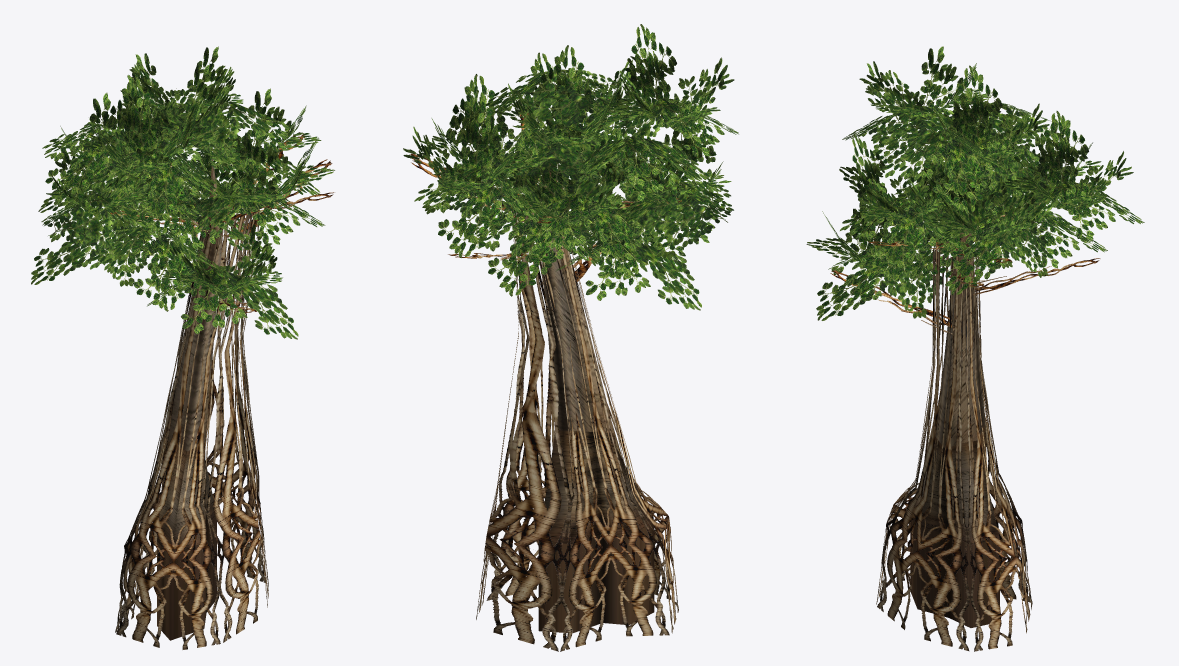
The model's file is flora_tree_strangler_v2.glb.
3 views of the same model, side by side, from view 1: azimuth 30°, elevation 25°; view 2: azimuth 150°, elevation 25°; view 3: azimuth 270°, elevation 25° (orthographic). The views are drawn at different scales.
Parts seen in each view (by area): view 1: flora_tree_strangler_v2_part1, flora_tree_strangler_v2_part0; view 2: flora_tree_strangler_v2_part1, flora_tree_strangler_v2_part0; view 3: flora_tree_strangler_v2_part1, flora_tree_strangler_v2_part0.
Boxes of the visible parts, x1,y1,x2,y2 form: flora_tree_strangler_v2_part1: [31, 46, 334, 339]; flora_tree_strangler_v2_part0: [109, 132, 334, 649]; flora_tree_strangler_v2_part1: [403, 24, 738, 310]; flora_tree_strangler_v2_part0: [409, 113, 687, 651]; flora_tree_strangler_v2_part1: [806, 46, 1144, 320]; flora_tree_strangler_v2_part0: [830, 196, 1100, 651].
Size of the model in its own units: 20.99 by 34.55 by 21.56.
Materials: 2 (2 with a texture image).
